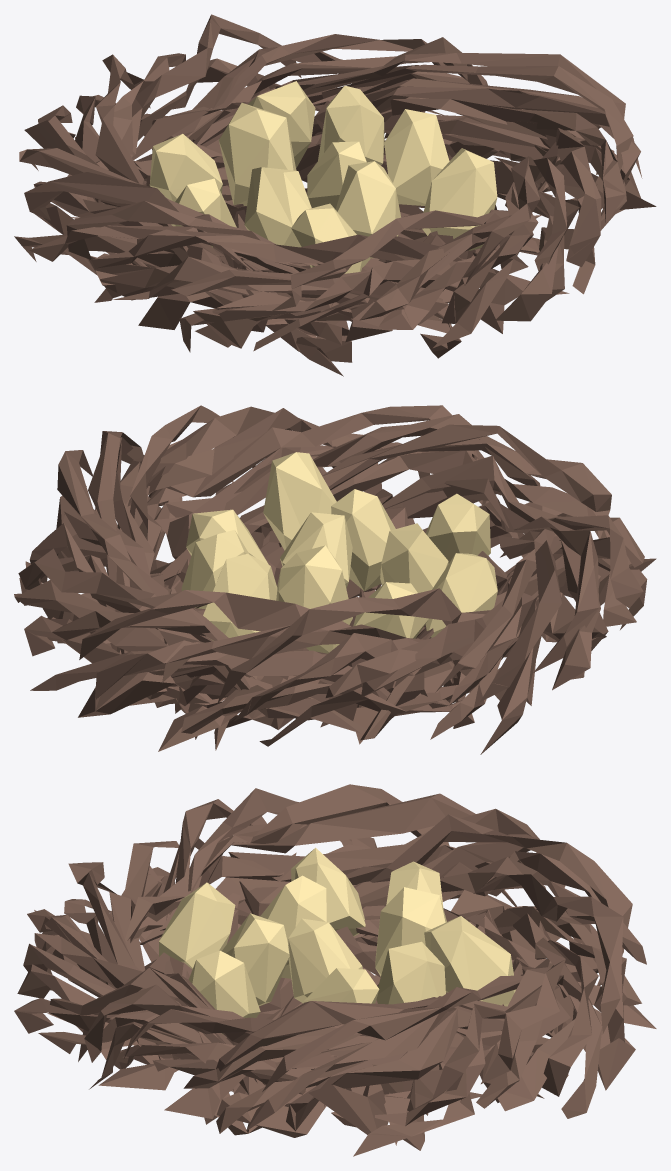
Rendered from Nest_18.fbx.
The picture shows the model from 3 angles, top to bottom: view 1: azimuth 30°, elevation 25°; view 2: azimuth 150°, elevation 25°; view 3: azimuth 270°, elevation 25°; orthographic projection. The views are drawn at different scales.
Parts seen in each view (by area): view 1: Nest_18_LOD0; view 2: Nest_18_LOD0; view 3: Nest_18_LOD0.
Boxes of the visible parts, box(x1,y1,x2,y2) form: Nest_18_LOD0: box(14, 14, 656, 376); Nest_18_LOD0: box(14, 405, 656, 754); Nest_18_LOD0: box(14, 784, 656, 1156).
Size of what is drawn, in the model's own units: 46.27 by 14.71 by 45.24.
